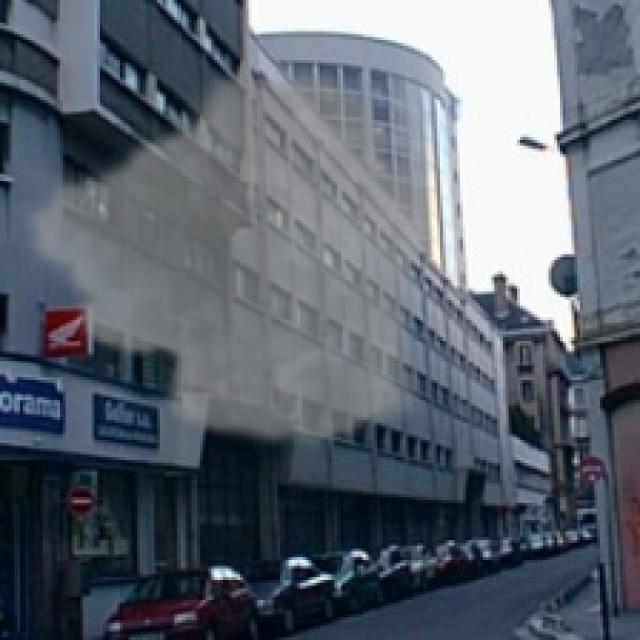smoke: (14, 57, 437, 454)
